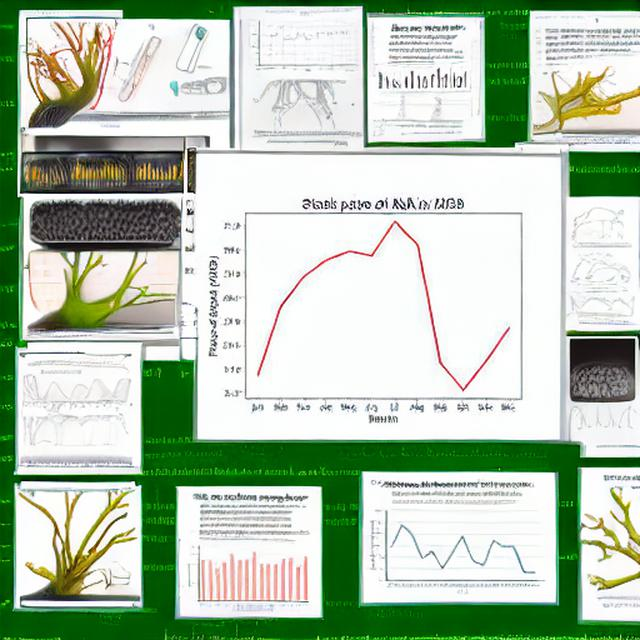Graph: (201, 171, 557, 438), (365, 497, 541, 600), (185, 537, 312, 614), (244, 7, 362, 76), (29, 369, 91, 415), (368, 61, 442, 94), (128, 153, 184, 193), (568, 291, 621, 320)
